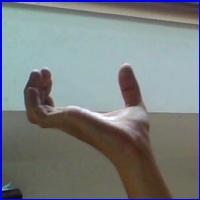B: (17, 58, 167, 162)
